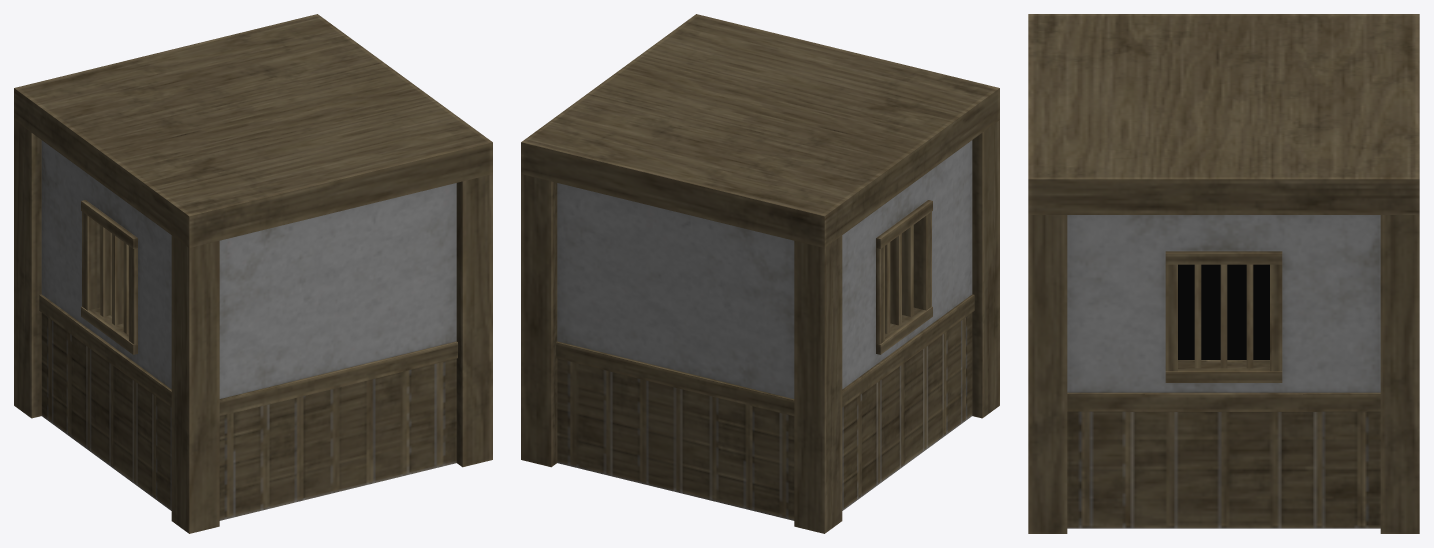
The model's file is sb_obj_outdoor028_house02_wall01.fbx.
3 renders of one model, left to right at view 1: azimuth 30°, elevation 25°; view 2: azimuth 150°, elevation 25°; view 3: azimuth 270°, elevation 25°, orthographic. The views are drawn at different scales.
Visible parts, largest first — view 1: sb_obj_outdoor028_house02_wall01; view 2: sb_obj_outdoor028_house02_wall01; view 3: sb_obj_outdoor028_house02_wall01.
Part boxes in pixels (x1,y1,x2,y2): sb_obj_outdoor028_house02_wall01: (14, 14, 492, 533); sb_obj_outdoor028_house02_wall01: (521, 14, 999, 533); sb_obj_outdoor028_house02_wall01: (1028, 14, 1419, 533).
Size of the model in its own units: 3 by 3 by 3.
